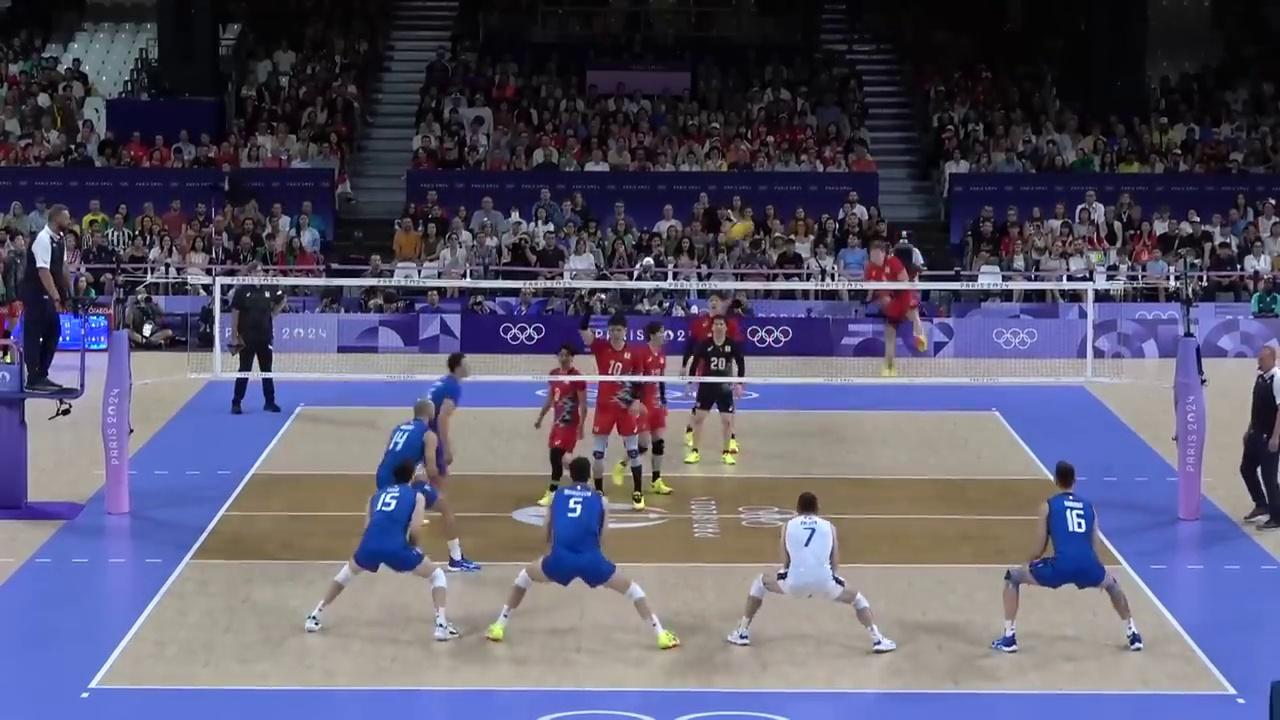ball: (727, 222, 747, 240)
